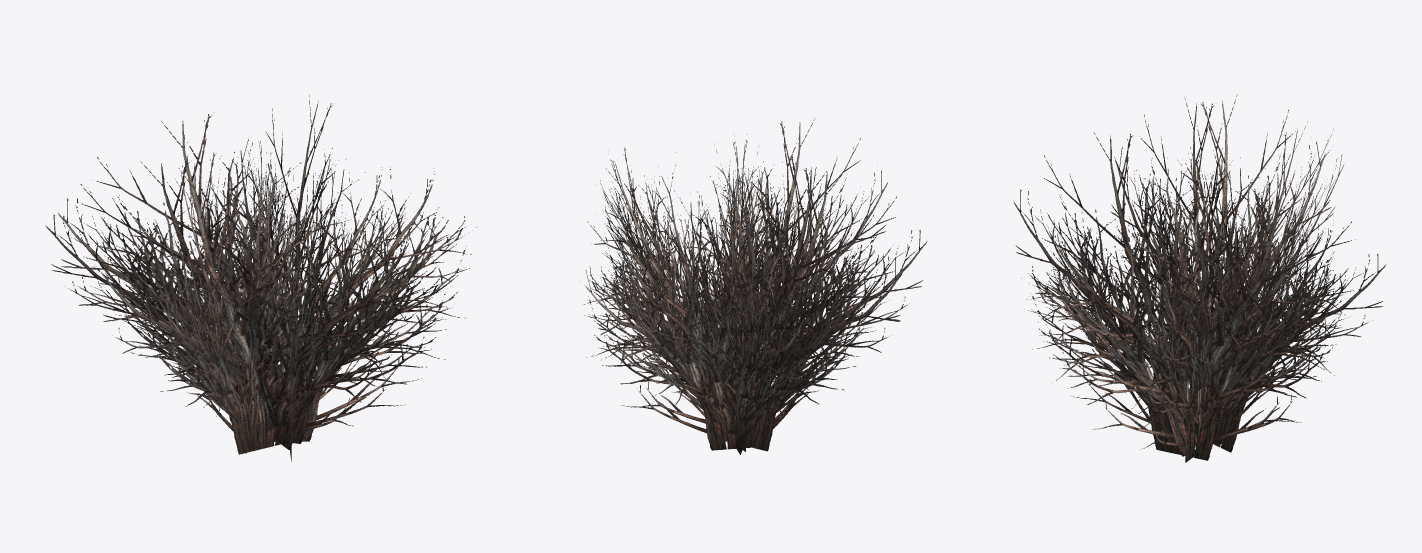
Rendered from dry_bush.glb.
3 renders of one model, left to right at view 1: azimuth 30°, elevation 25°; view 2: azimuth 150°, elevation 25°; view 3: azimuth 270°, elevation 25°, orthographic. The views are drawn at different scales.
Parts seen in each view (by area): view 1: Bush; view 2: Bush; view 3: Bush.
Boxes of the visible parts, x1,y1,x2,y2 form: Bush: [45, 95, 476, 461]; Bush: [583, 118, 927, 454]; Bush: [1013, 94, 1386, 462].
Bounding box in the file's own units: 0.913 × 0.7278 × 0.8184.
Materials: 1 (1 with a texture image).
